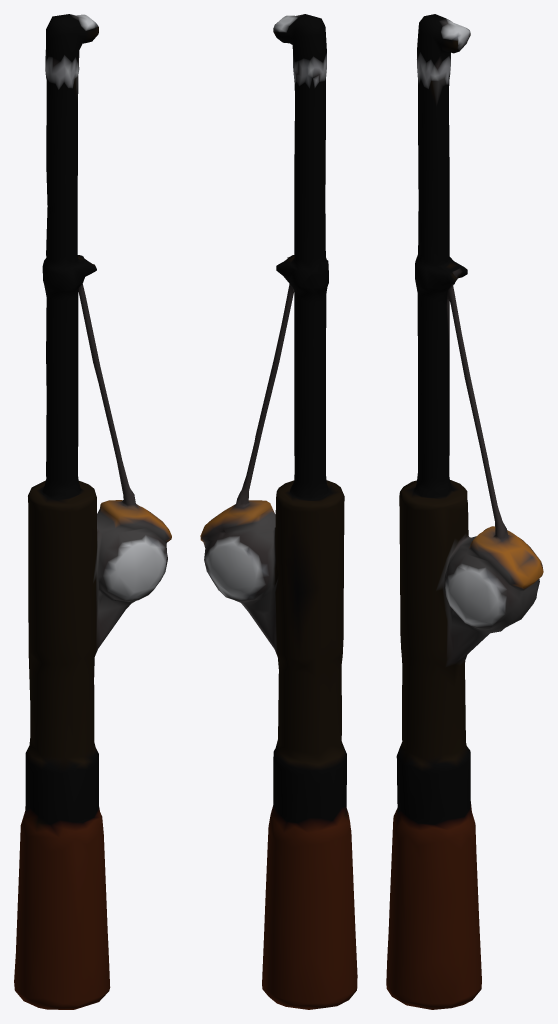
File: gen3d-fishing-lod0.glb
The picture shows the model from 3 angles, left to right: view 1: azimuth 30°, elevation 25°; view 2: azimuth 150°, elevation 25°; view 3: azimuth 330°, elevation 25°; orthographic projection.
Visible parts, largest first — view 1: part_0; view 2: part_0; view 3: part_0.
Part boxes in pixels (x1,y1,x2,y2): part_0: (14,14,171,1009); part_0: (200,14,357,1009); part_0: (386,14,543,1009).
Bounding box in the file's own units: 0.1546 × 0.9995 × 0.0885.
